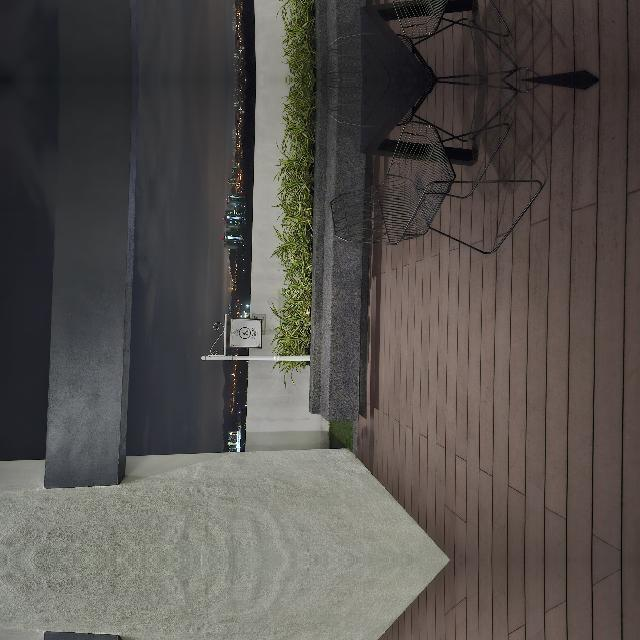obstacle: (143, 280, 480, 450), (304, 408, 444, 626), (304, 494, 444, 640), (394, 438, 478, 600), (393, 519, 478, 640)
